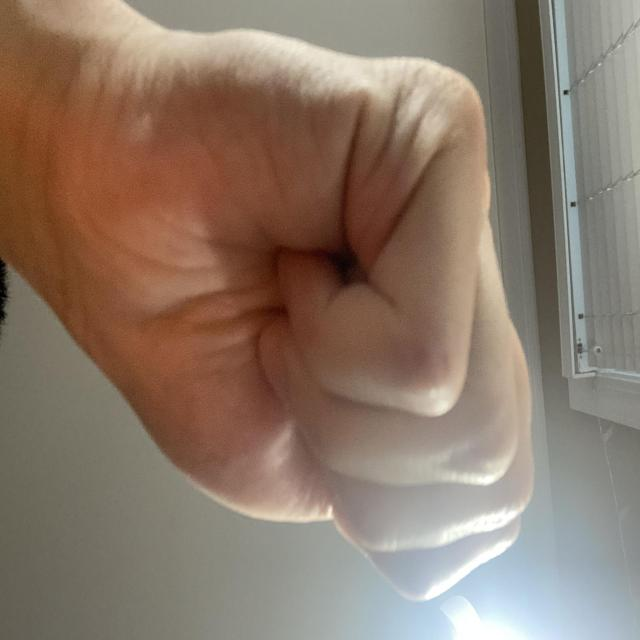M: (160, 127, 614, 640)
